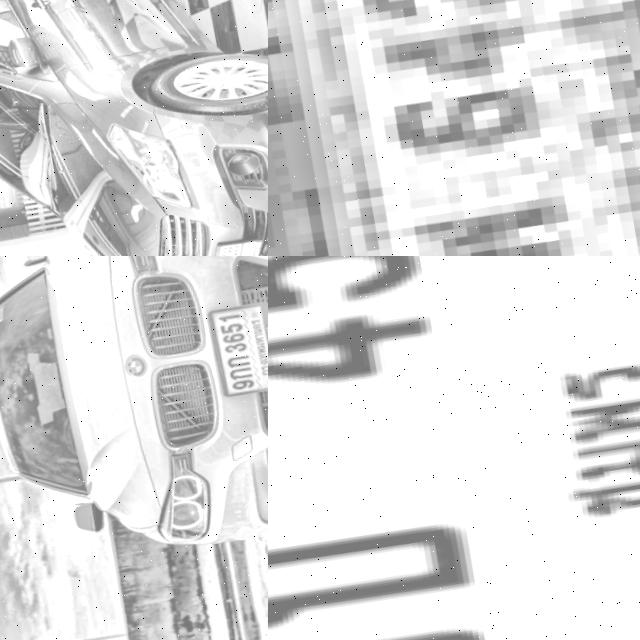license-plate: (268, 256, 640, 640), (280, 0, 640, 256), (203, 292, 268, 399), (204, 230, 268, 256)
